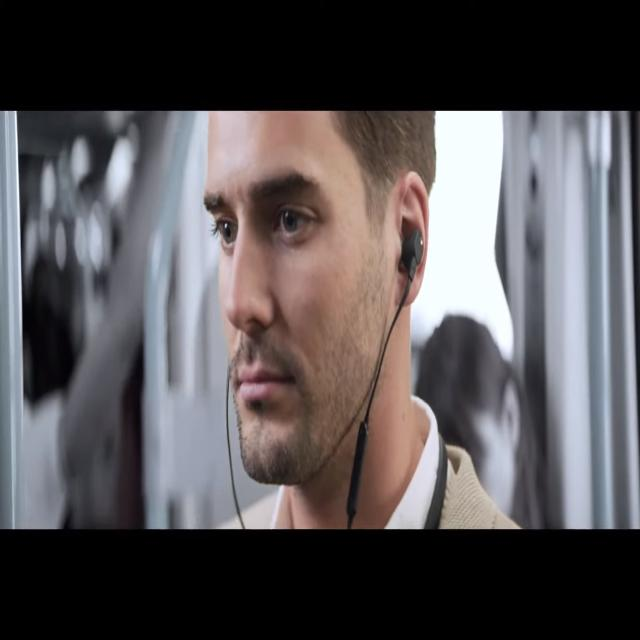Neckband: (226, 227, 424, 531)
